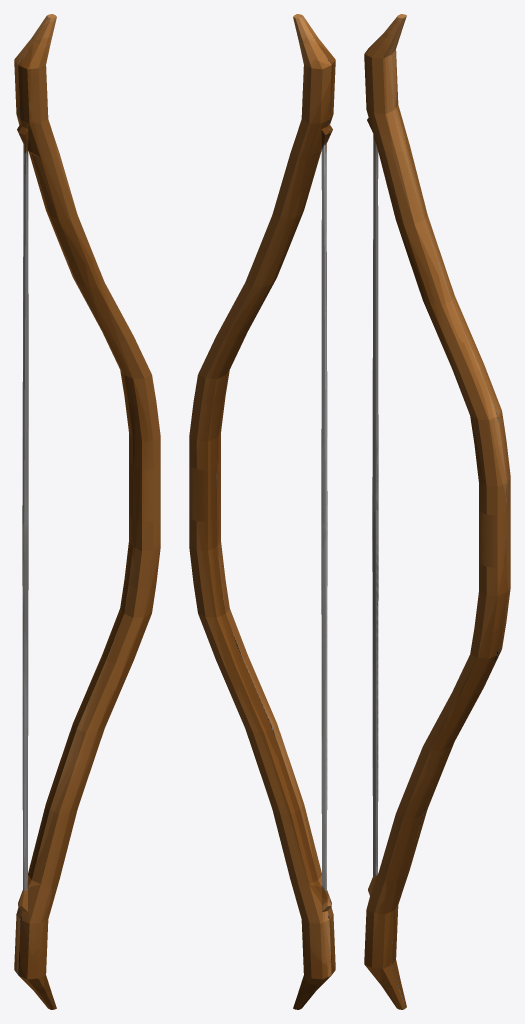
The model's file is Bow.obj.
The picture shows the model from 3 angles, left to right: view 1: azimuth 30°, elevation 25°; view 2: azimuth 150°, elevation 25°; view 3: azimuth 330°, elevation 25°; orthographic projection.
Parts seen in each view (by area): view 1: Bow; view 2: Bow; view 3: Bow.
Part boxes in pixels (box(x1,y1,x2,y2)): Bow: box(14, 14, 160, 1009); Bow: box(189, 14, 335, 1009); Bow: box(364, 14, 510, 1009).
Size of the model in its own units: 2.77 by 18.93 by 0.5765.
Materials: 1 (1 with a texture image).
